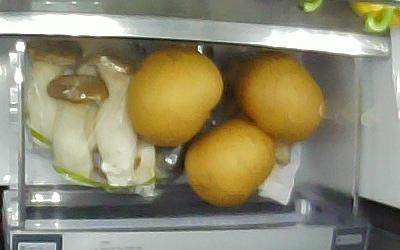pear: (127, 48, 223, 147), (234, 52, 326, 142), (184, 120, 276, 205)
